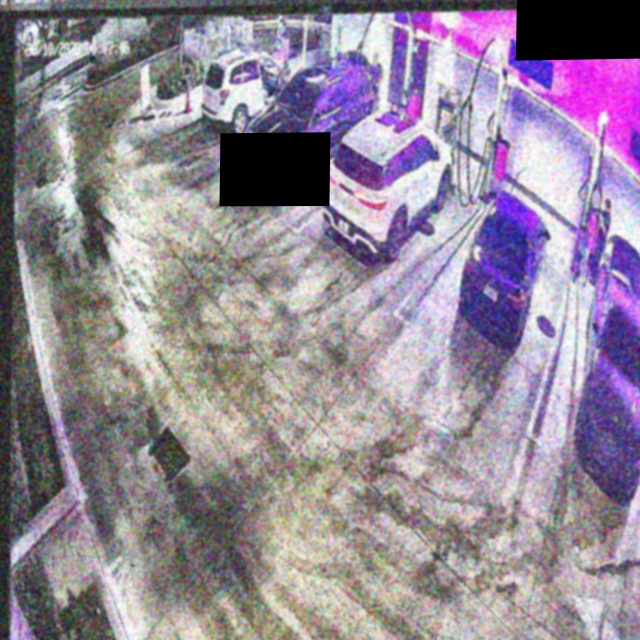Car: (322, 107, 453, 262), (242, 55, 375, 199), (460, 190, 549, 347)
